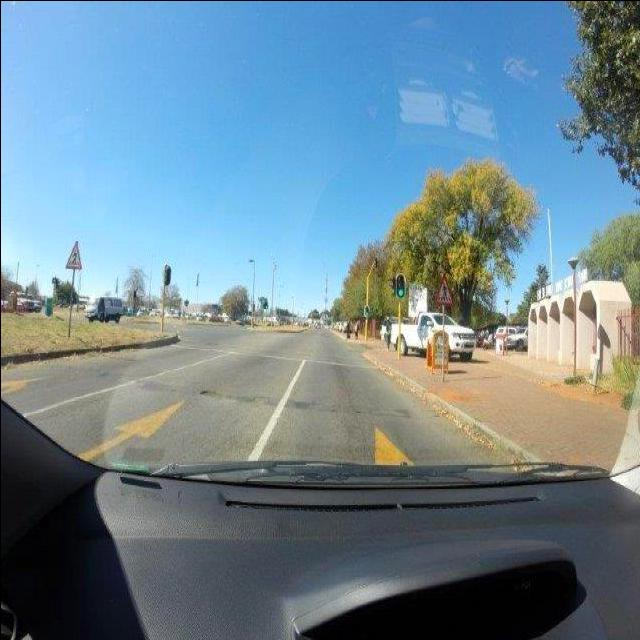lubang: (194, 386, 230, 400)
